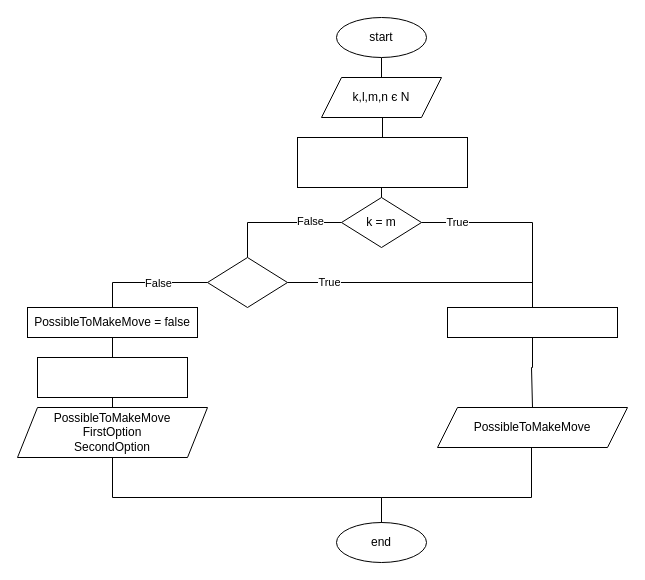
Some shapes in this 645 by 580 pixel diagram are drawn without their labels. The centre of each missing label's shape, as x and y in pixels:
"bool PossibleToMakeMove int FirstOption[2] int SecondOption[2]" belongs at (382,162).
"FirstOption = {k; n} SecondOption = {l; m}" belongs at (112,377).
"l = n" belongs at (247,282).
"PossibleToMakeMove = true" belongs at (532,322).
